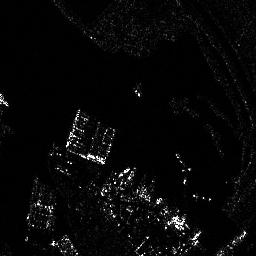ship: (216, 231, 245, 256)
